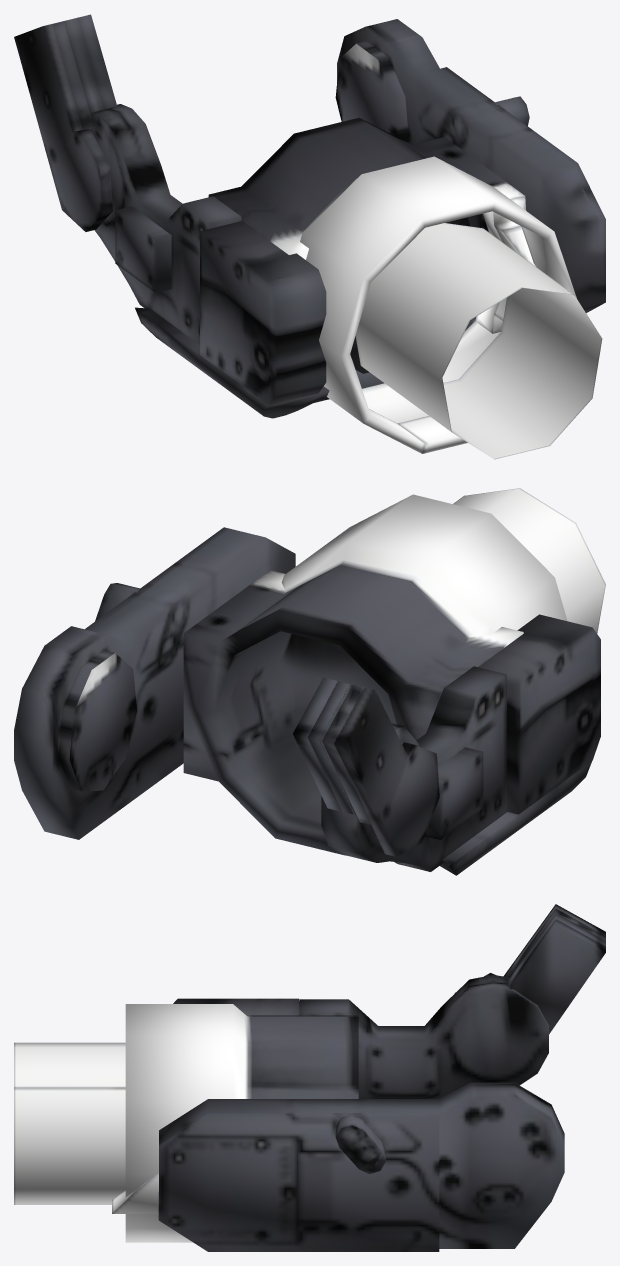
Rendered from r_scap.dae.
3 views of the same model, one above another, from view 1: azimuth 30°, elevation 25°; view 2: azimuth 150°, elevation 25°; view 3: azimuth 270°, elevation 25° (orthographic). The views are drawn at different scales.
Visible parts, largest first — view 1: r_scap; view 2: r_scap; view 3: r_scap.
Part boxes in pixels (x1=…): r_scap: x1=14, y1=14, x2=605, y2=459; r_scap: x1=14, y1=488, x2=605, y2=875; r_scap: x1=14, y1=904, x2=605, y2=1251.
Bounding box in the file's own units: 0.1717 × 0.2756 × 0.1279.
Materials: 1 (1 with a texture image).
